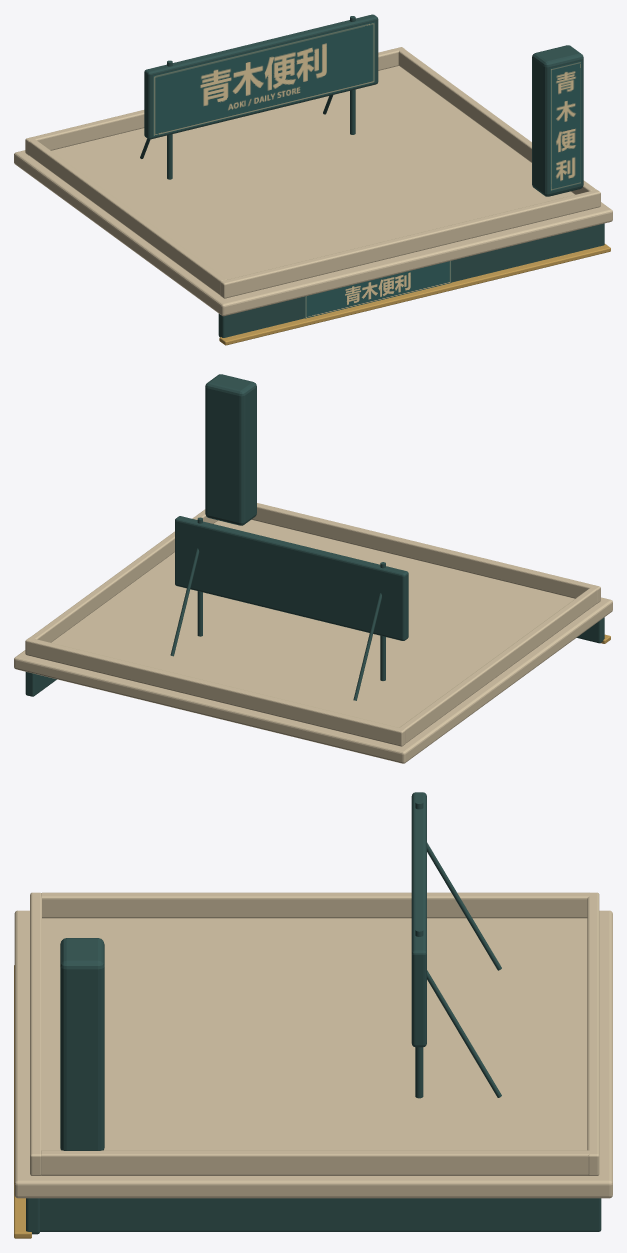
Rendered from StoreCrown.glb.
3 views of the same model, one above another, from view 1: azimuth 30°, elevation 25°; view 2: azimuth 150°, elevation 25°; view 3: azimuth 270°, elevation 25° (orthographic). The views are drawn at different scales.
Parts seen in each view (by area): view 1: StoreCrown_NX_IvoryConcrete, StoreCrown_NX_StoreRoof, StoreCrown_NX_WindowSteel, StoreCrown_NX_StoreBlade, StoreCrown_NX_StoreWide, StoreCrown_NX_AmberEnamel; view 2: StoreCrown_NX_IvoryConcrete, StoreCrown_NX_WindowSteel; view 3: StoreCrown_NX_IvoryConcrete, StoreCrown_NX_WindowSteel, StoreCrown_NX_AmberEnamel.
Part boxes in pixels (x1,y1,x2,y2): StoreCrown_NX_IvoryConcrete: (14,47,612,316); StoreCrown_NX_StoreRoof: (153,21,375,136); StoreCrown_NX_WindowSteel: (140,14,604,337); StoreCrown_NX_StoreBlade: (550,61,581,191); StoreCrown_NX_StoreWide: (305,261,451,318); StoreCrown_NX_AmberEnamel: (219,244,610,345); StoreCrown_NX_IvoryConcrete: (14,503,612,763); StoreCrown_NX_WindowSteel: (25,374,604,700); StoreCrown_NX_IvoryConcrete: (14,892,612,1198); StoreCrown_NX_WindowSteel: (26,792,601,1234); StoreCrown_NX_AmberEnamel: (14,965,31,1238).
Size of the model in its own units: 6.42 by 2.95 by 5.95.
Materials: 6 (3 with a texture image).
